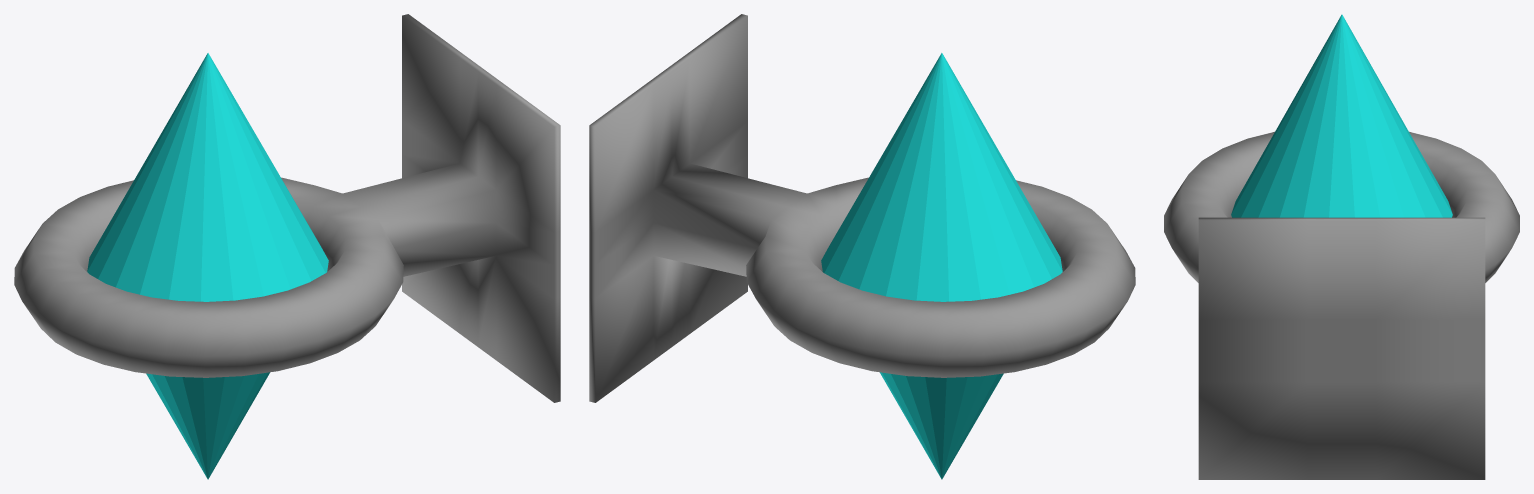
Rendered from crystal_torch.fbx.
3 renders of one model, left to right at view 1: azimuth 30°, elevation 25°; view 2: azimuth 150°, elevation 25°; view 3: azimuth 270°, elevation 25°, orthographic. The views are drawn at different scales.
Visible parts, largest first — view 1: Cube, Cone; view 2: Cube, Cone; view 3: Cube, Cone.
Boxes of the visible parts, left/top/right/bottom form: Cube: left=14, top=14, right=560, bottom=402; Cone: left=87, top=53, right=328, bottom=479; Cube: left=589, top=14, right=1135, bottom=402; Cone: left=821, top=53, right=1062, bottom=479; Cube: left=1164, top=131, right=1519, bottom=479; Cone: left=1231, top=14, right=1452, bottom=217.
Size of the model in its own units: 127 by 116 by 93.01.
